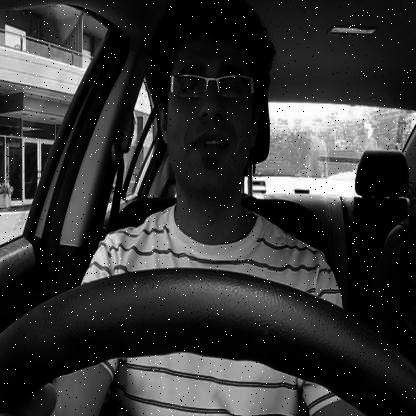no_seatbelt: (89, 0, 290, 272)
